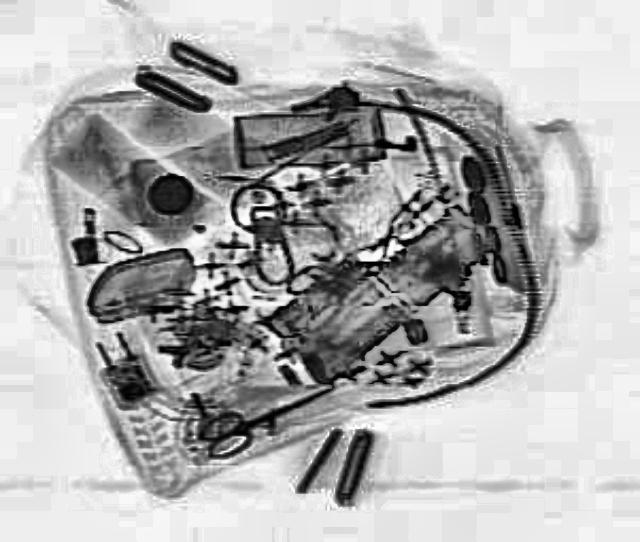Scissors: (185, 368, 343, 460)
